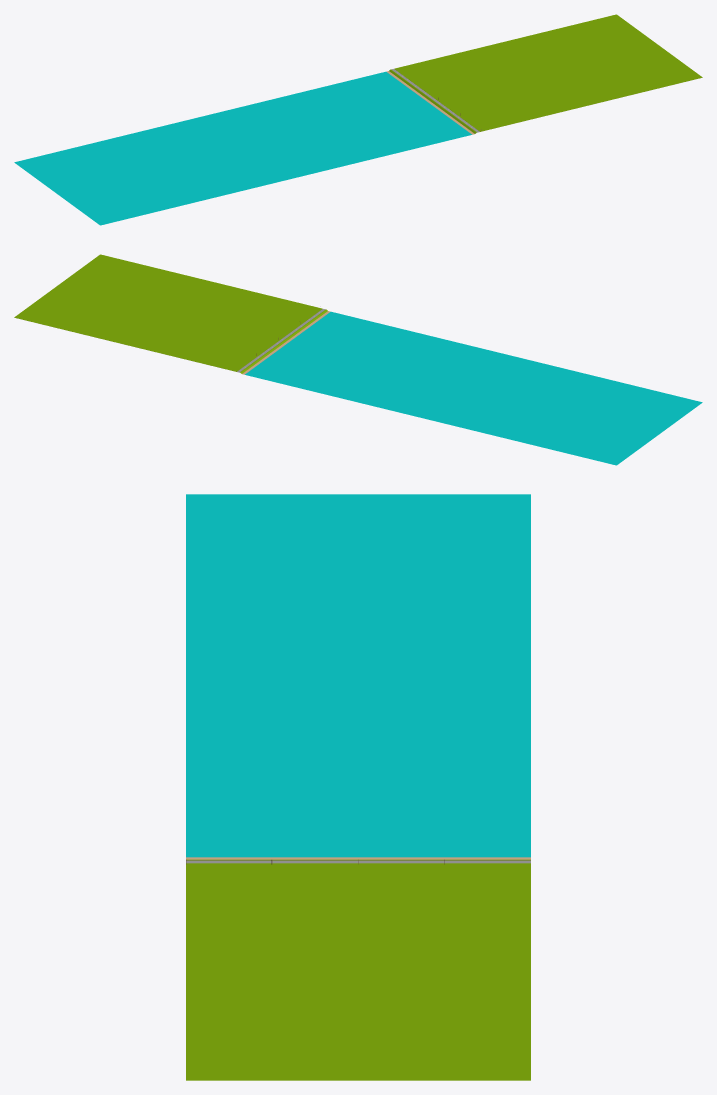
The model's file is searoad01.glb.
3 views of the same model, one above another, from view 1: azimuth 30°, elevation 25°; view 2: azimuth 150°, elevation 25°; view 3: azimuth 270°, elevation 25° (orthographic). The views are drawn at different scales.
Parts seen in each view (by area): view 1: Geom3D (×2); view 2: Geom3D (×2); view 3: Geom3D (×4).
Part boxes in pixels (x1,y1,x2,y2): Geom3D (×2): [14, 14, 702, 225]; Geom3D (×2): [14, 254, 702, 465]; Geom3D (×4): [186, 494, 530, 1080].
Size of the model in its own units: 1.65e+07 by 91057 by 4085865.
Materials: 8 (3 with a texture image).
